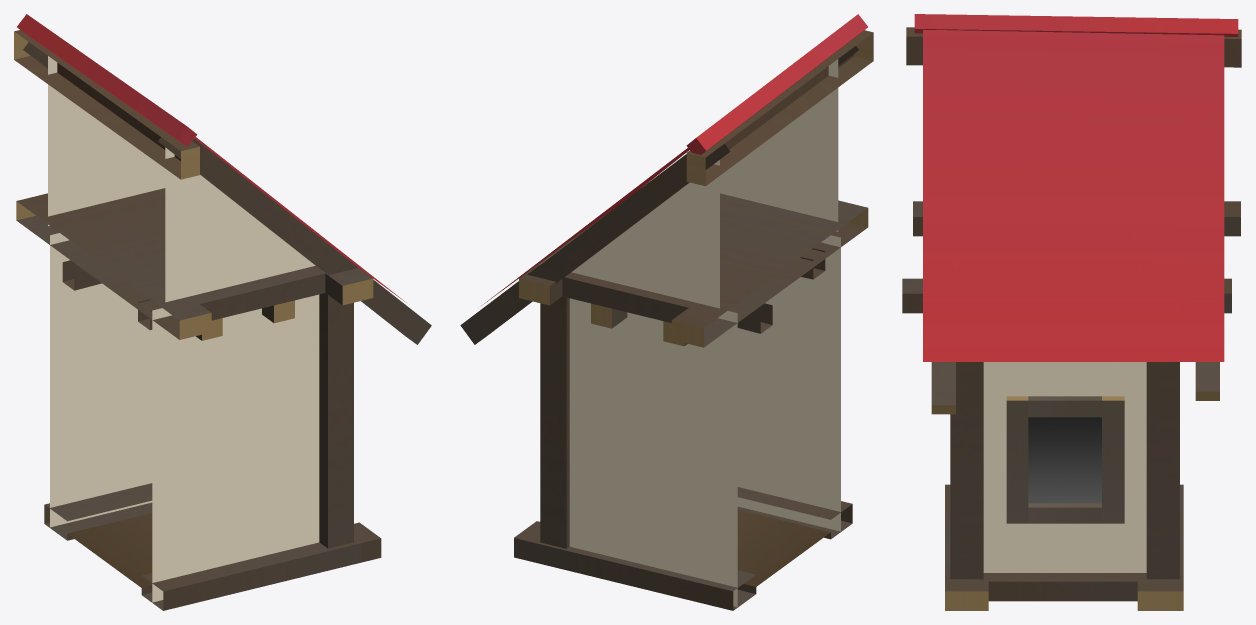
File: House_Piece_3A_LOD1.fbx
3 views of the same model, side by side, from view 1: azimuth 30°, elevation 25°; view 2: azimuth 150°, elevation 25°; view 3: azimuth 270°, elevation 25° (orthographic).
Visible parts, largest first — view 1: polySurface9700; view 2: polySurface9700; view 3: polySurface9700.
Part boxes in pixels (x1,y1,x2,y2): polySurface9700: (14, 14, 431, 610); polySurface9700: (460, 14, 873, 610); polySurface9700: (902, 14, 1241, 610).
Size of the model in its own units: 206 by 364 by 226.
